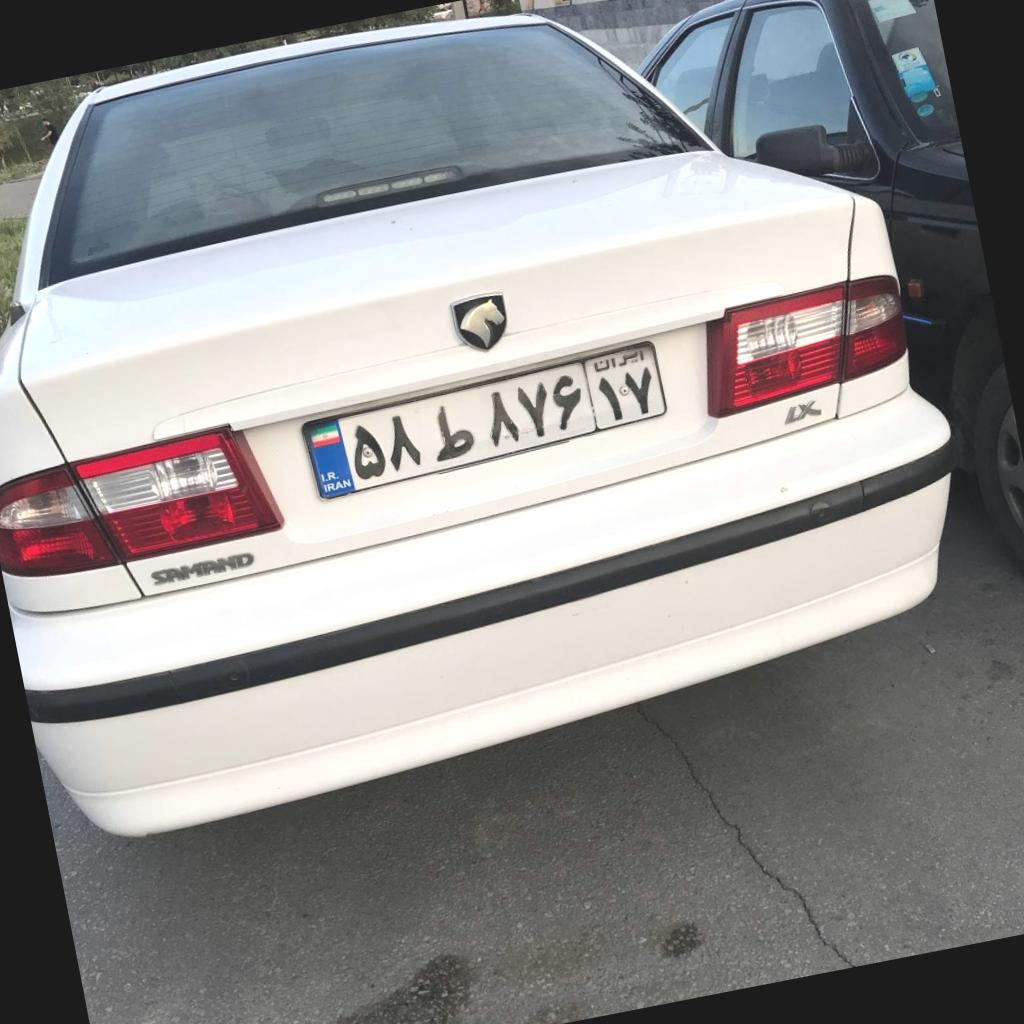Plates: (304, 344, 667, 498)
